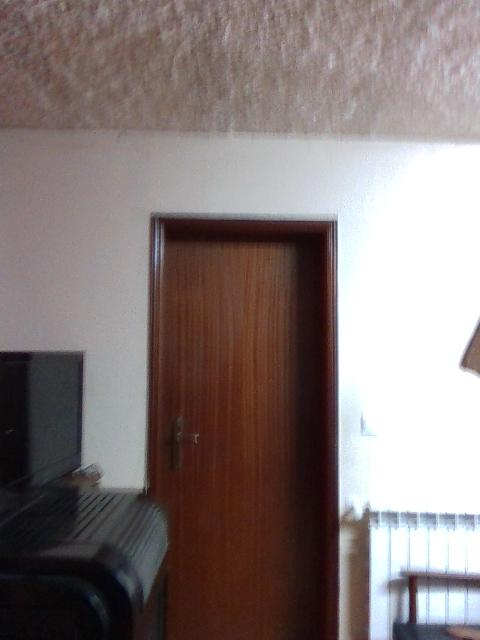door: (165, 234, 324, 640)
